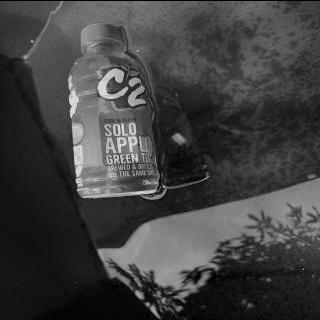bottle: (66, 22, 160, 198)
